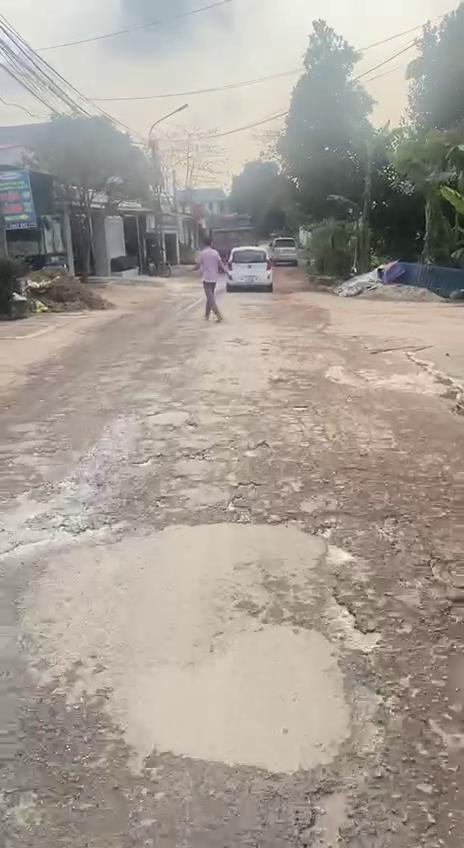pothole: (294, 773, 366, 848), (413, 549, 464, 646), (322, 578, 386, 654), (224, 476, 266, 523), (427, 369, 464, 419), (128, 450, 165, 469), (179, 446, 221, 462)
